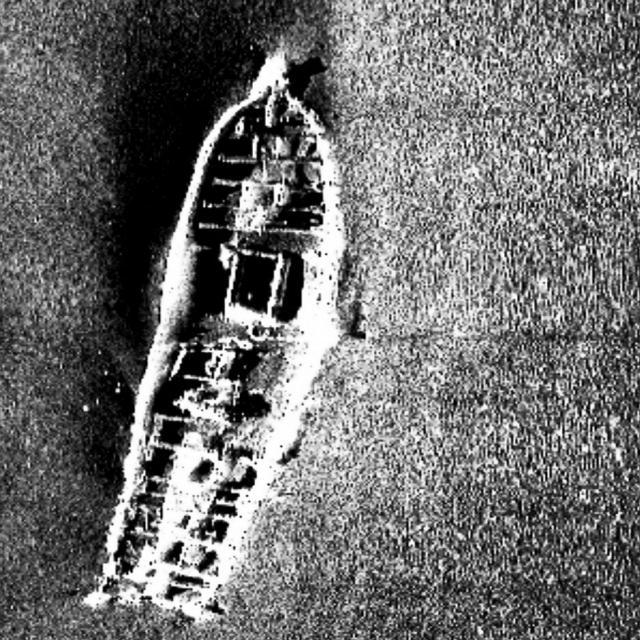shipwreck: (125, 52, 336, 608)
